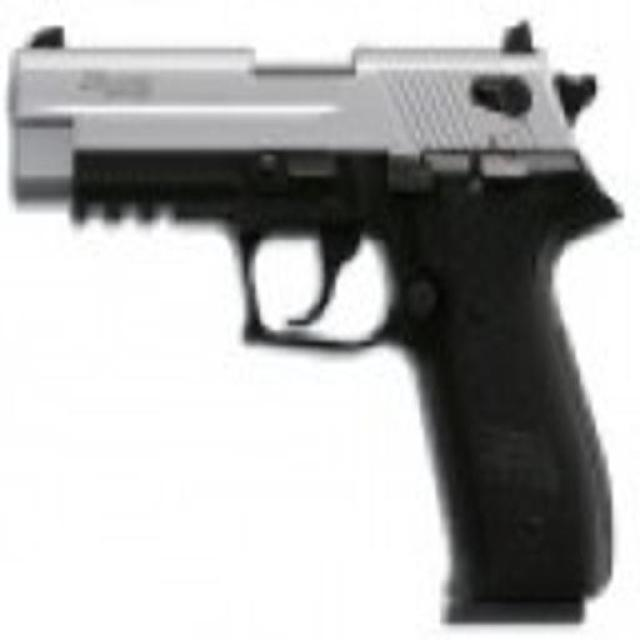pistol: (11, 26, 627, 628)
